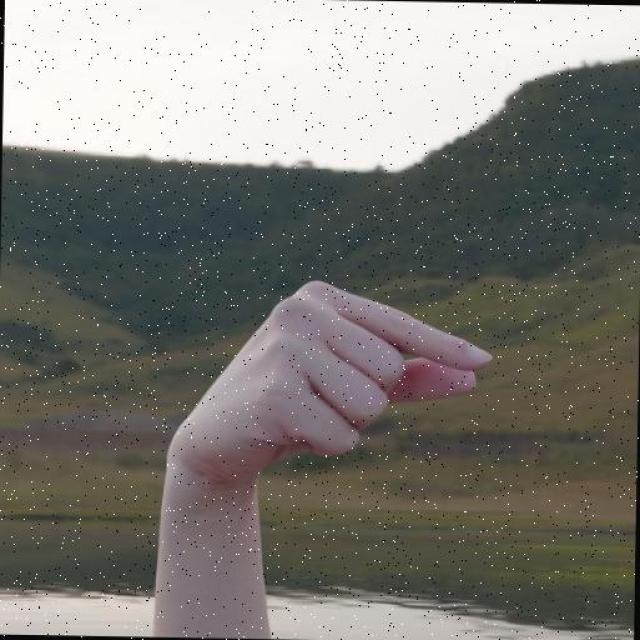G: (162, 273, 499, 498)
